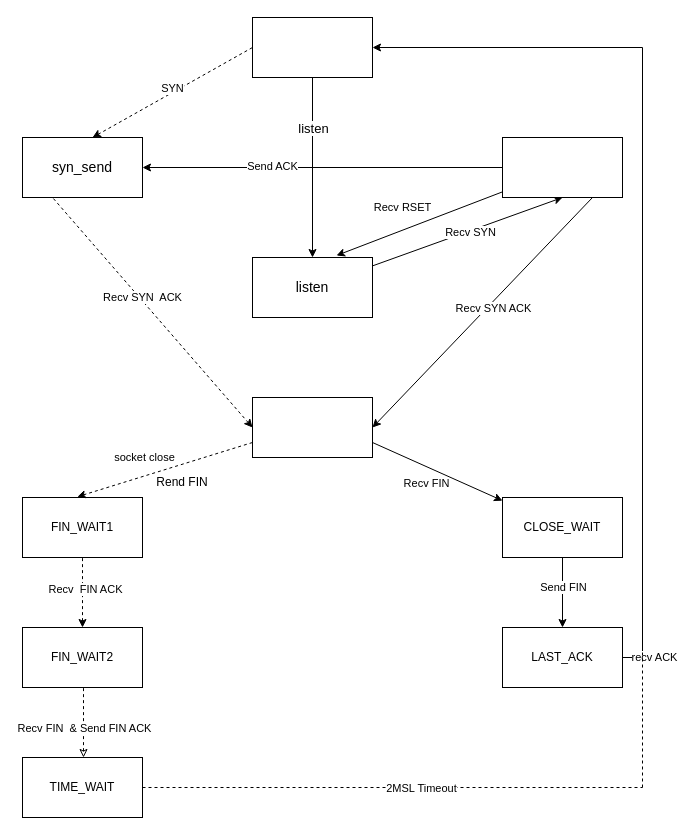
This 694x835 diagram has some shape labels left out. Here are the shapes that lost their labels. From the top down, the box of each, then its label:
(252, 16, 372, 78): closed
(502, 136, 622, 198): syn_rcvd
(252, 396, 372, 458): Established
